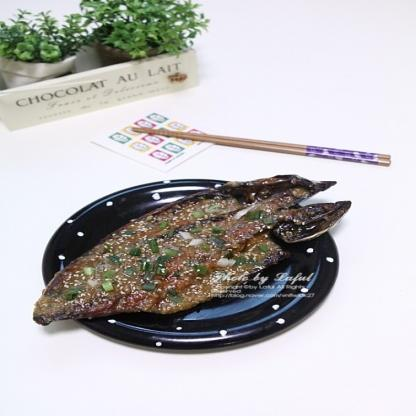Peixe: (0, 177, 364, 329)
